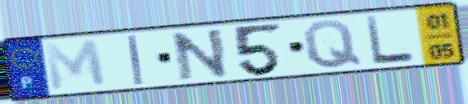5: (230, 21, 284, 77)
I: (125, 33, 147, 87)
L: (363, 14, 418, 67)
M: (41, 37, 110, 93)
N: (168, 26, 231, 83)
Q: (300, 18, 365, 71)
